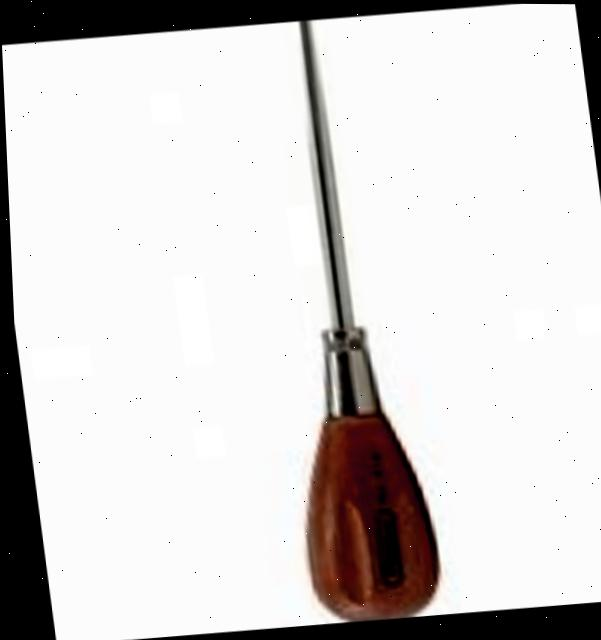ice pick: (230, 13, 447, 625)
